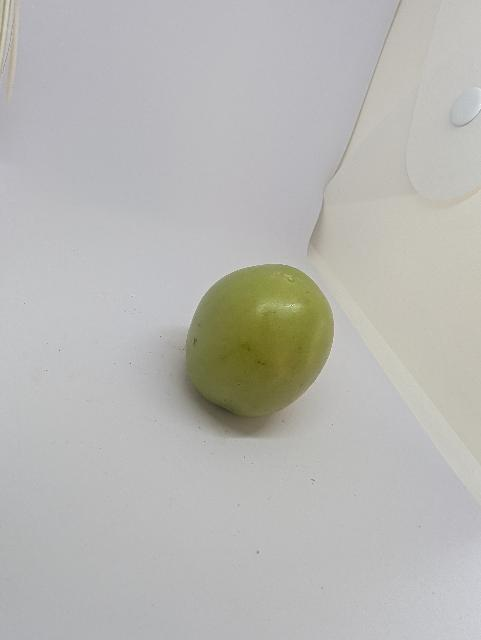green: (178, 246, 350, 436)
